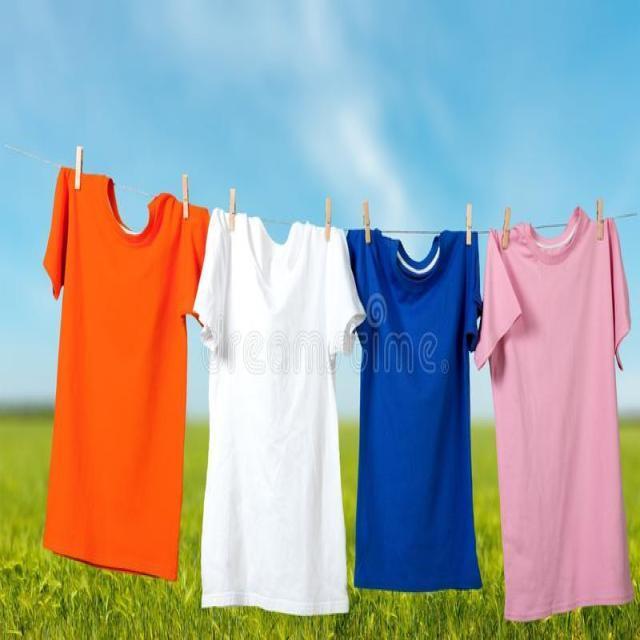clothes: (190, 189, 350, 618), (44, 144, 188, 592), (343, 206, 488, 598), (489, 208, 624, 622)
